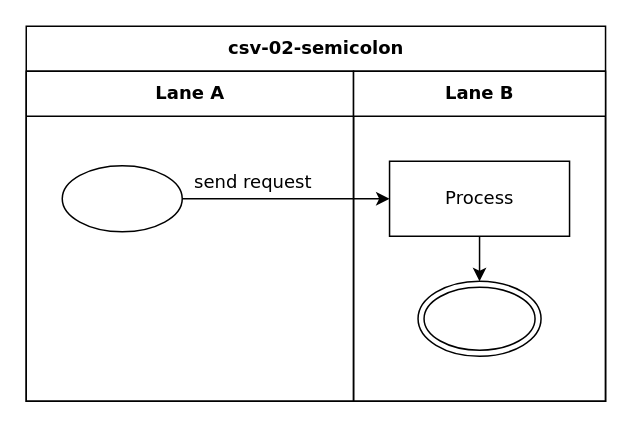
Image size: 633x428. Some labels were removed from this diagram. Each missing label, with the centre of its shape:
"Done" belongs at (479,318).
"Start" belongs at (121,198).
